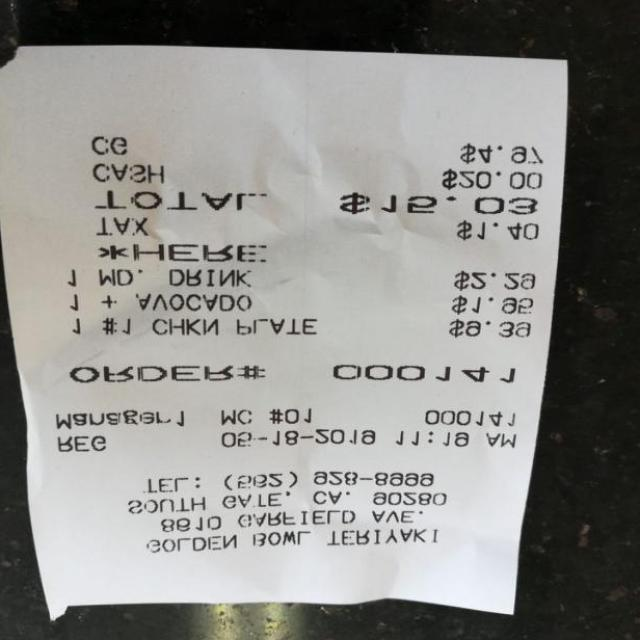kertas: (0, 46, 566, 618)
